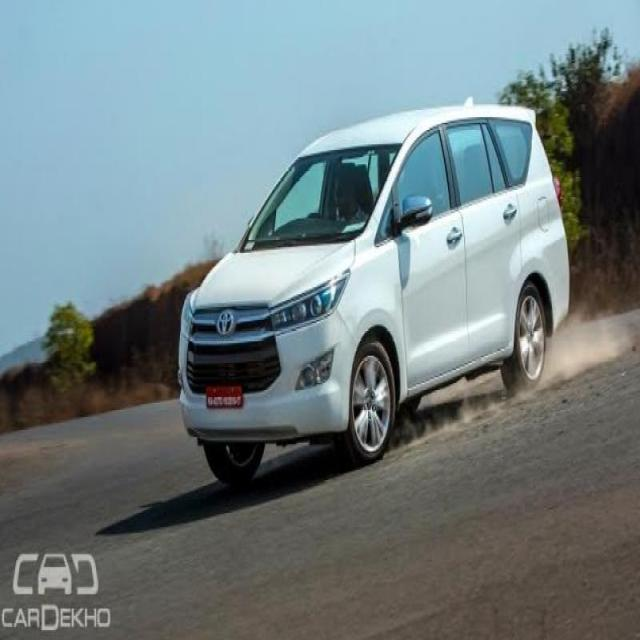light_vehicle: (177, 102, 572, 489)
